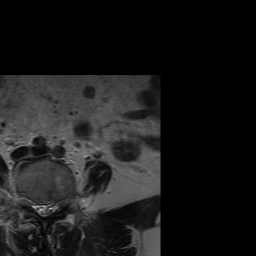CCS_severe_stenosis: (40, 194, 47, 224)
LFS_normal: (55, 193, 62, 217)
LLS_normal: (47, 195, 55, 220)
RFS_normal: (26, 191, 33, 216)
RLS_stenosis: (33, 194, 40, 221)
